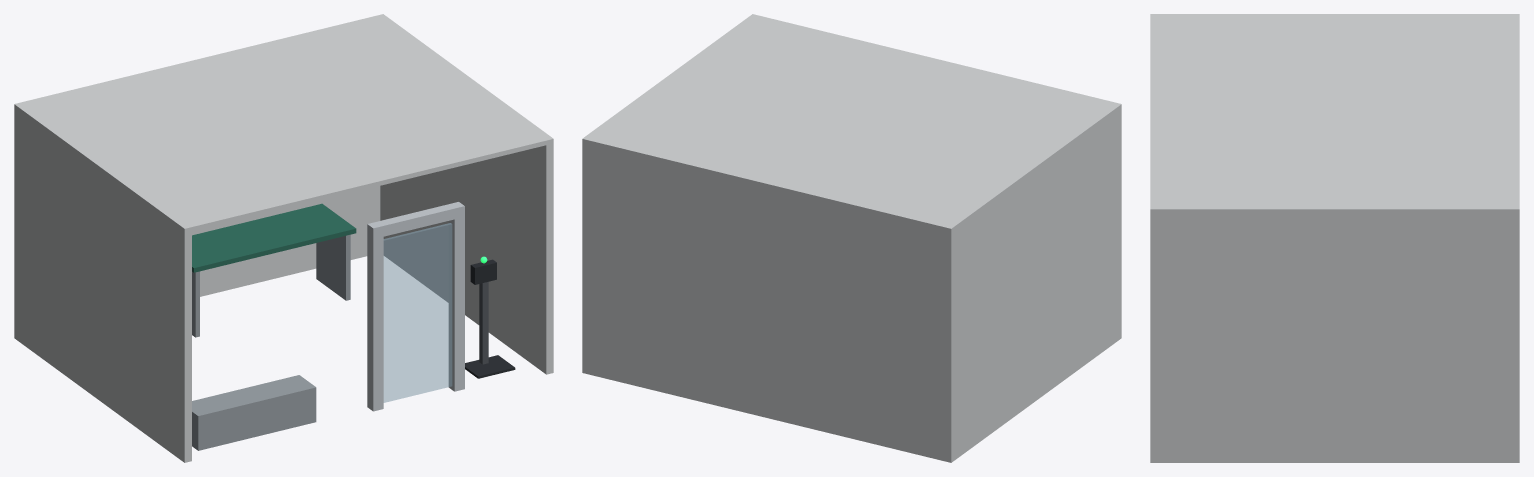
Rendered from equipment--cleanRoomBay.glb.
3 renders of one model, left to right at view 1: azimuth 30°, elevation 25°; view 2: azimuth 150°, elevation 25°; view 3: azimuth 270°, elevation 25°, orthographic. The views are drawn at different scales.
Visible parts, largest first — view 1: cleanRoomBay:shell, airShowerDoor, workBench, esdTester; view 2: cleanRoomBay:shell; view 3: cleanRoomBay:shell.
Boxes of the visible parts, x1,y1,x2,y2 form: cleanRoomBay:shell: (14,14,553,462); airShowerDoor: (383,223,452,402); workBench: (192,203,356,337); esdTester: (465,259,515,378); cleanRoomBay:shell: (582,14,1121,462); cleanRoomBay:shell: (1150,14,1519,462).
Bounding box in the file's own units: 5 × 3.03 × 4.
